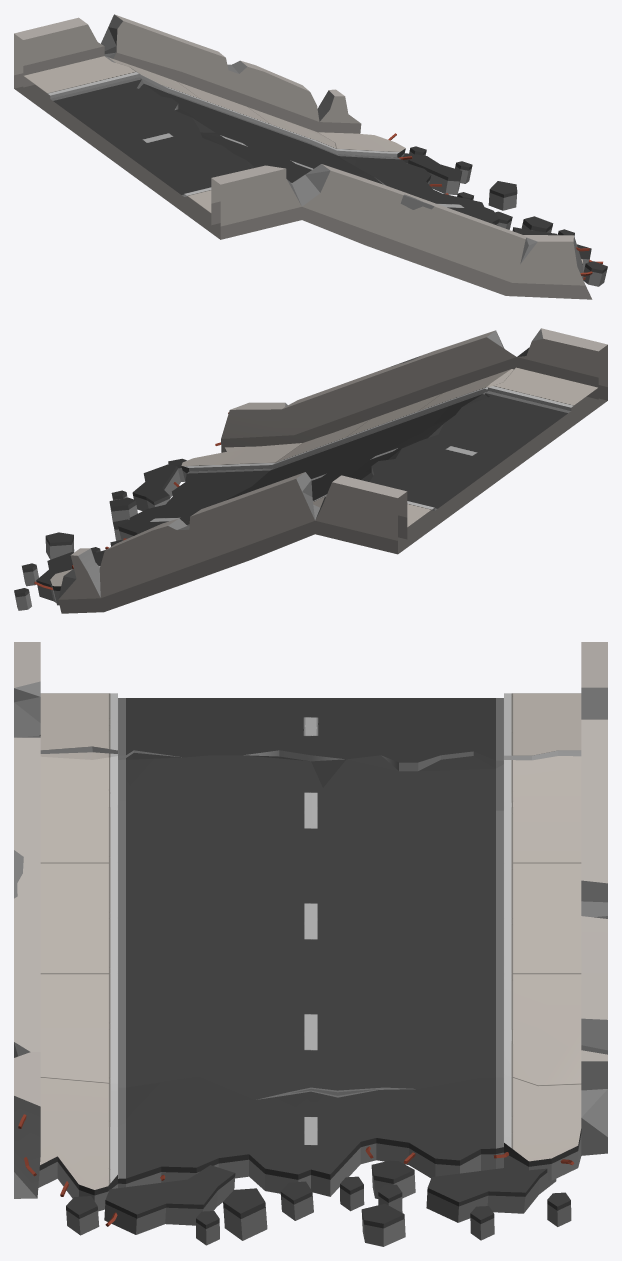
File: SA_Env_Highway_Broken_03.gltf
The picture shows the model from 3 angles, top to bottom: view 1: azimuth 30°, elevation 25°; view 2: azimuth 150°, elevation 25°; view 3: azimuth 270°, elevation 25°; orthographic projection. The views are drawn at different scales.
Parts seen in each view (by area): view 1: SA_Env_Highway_Broken_03; view 2: SA_Env_Highway_Broken_03; view 3: SA_Env_Highway_Broken_03.
Part boxes in pixels (bbox=[...]): SA_Env_Highway_Broken_03: bbox=[14, 14, 607, 299]; SA_Env_Highway_Broken_03: bbox=[14, 328, 607, 613]; SA_Env_Highway_Broken_03: bbox=[14, 642, 607, 1246].
Size of the model in its own units: 26.06 by 12.78 by 21.96.
1 material, 1 textured.
